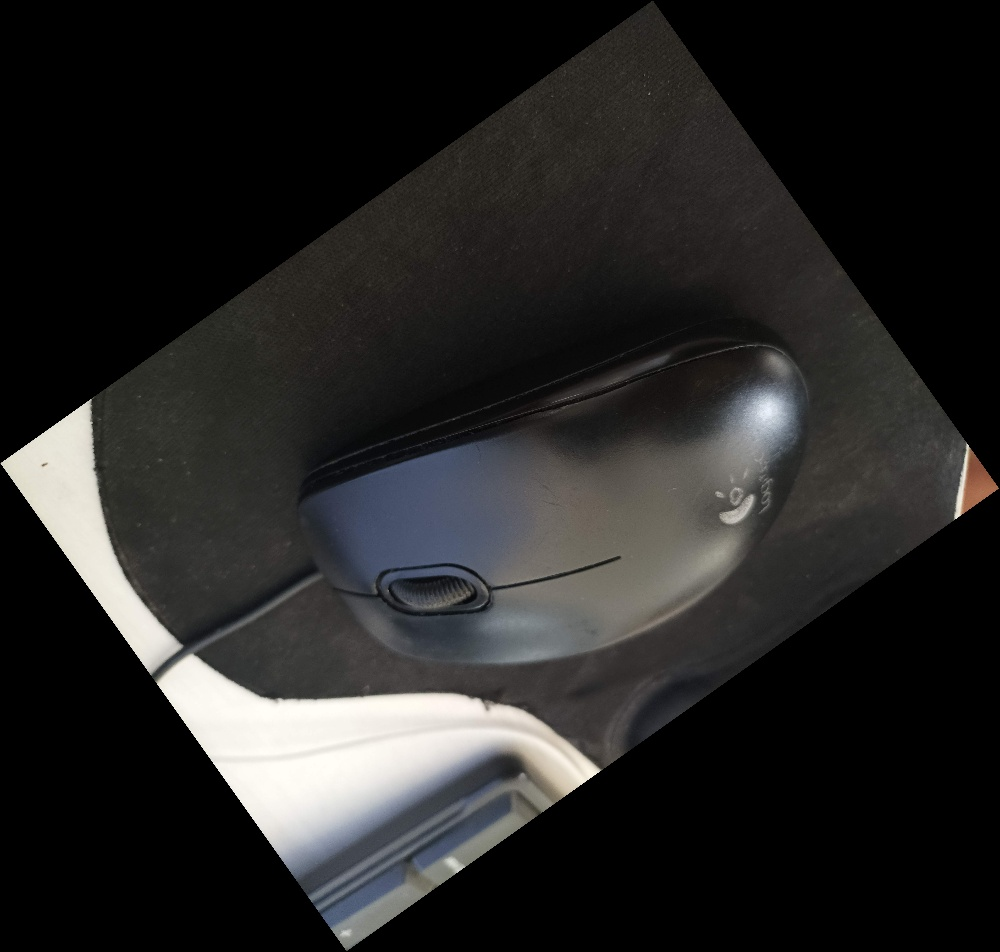mouse: (290, 312, 816, 670)
